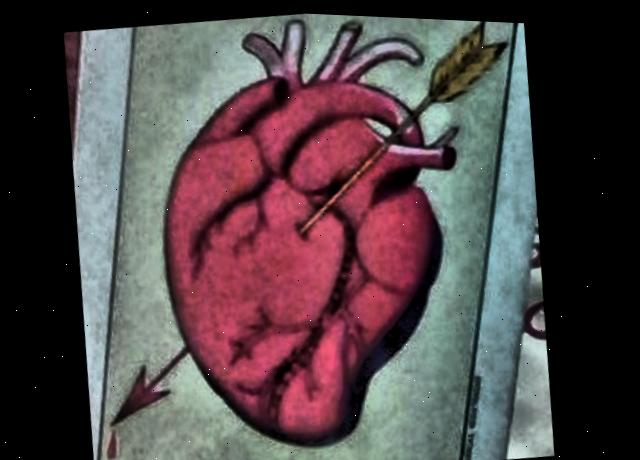El Corazon: (104, 11, 513, 460)
